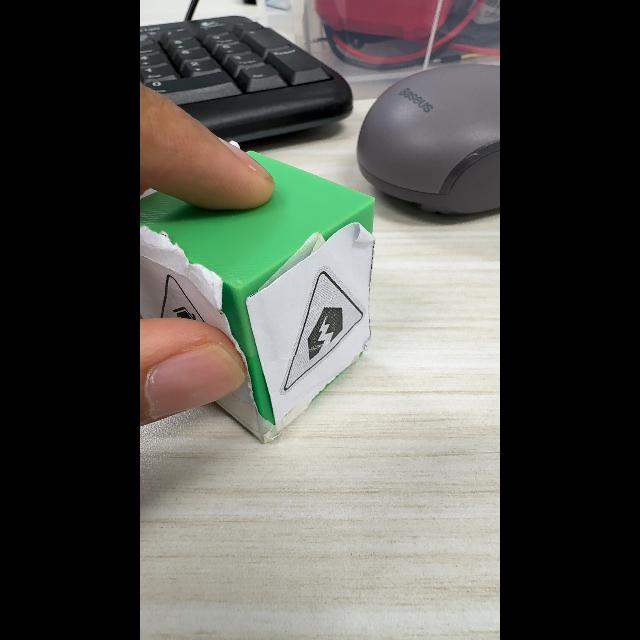Earthquake: (281, 270, 364, 394)
